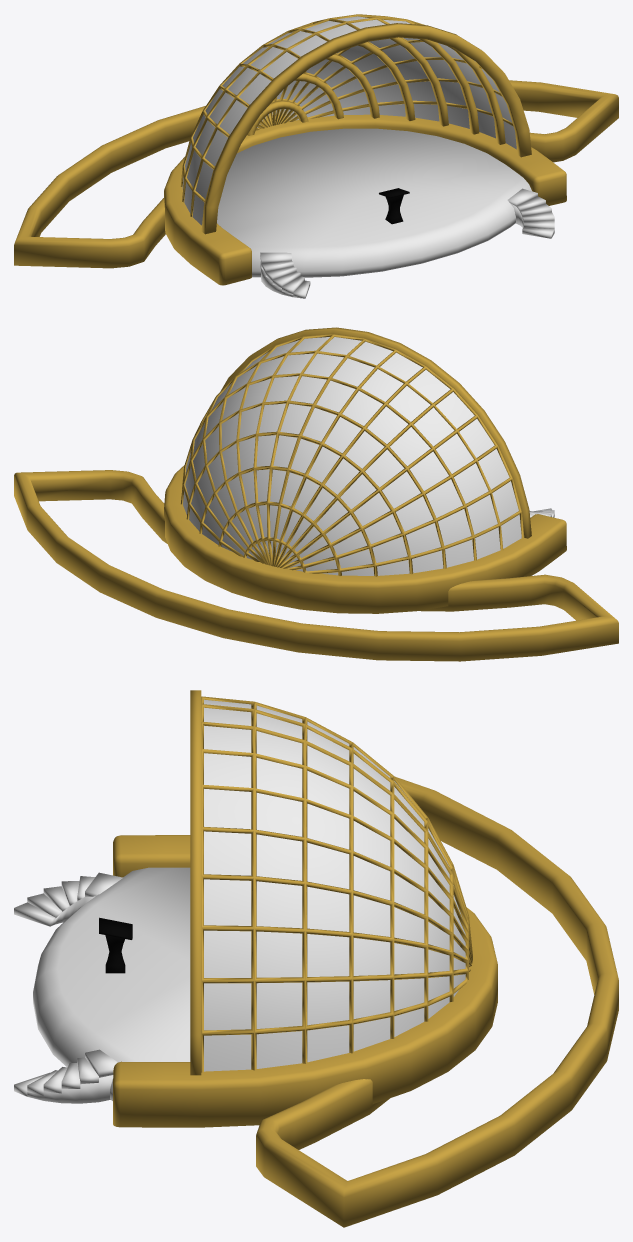
Rendered from amphitheater.glb.
3 views of the same model, one above another, from view 1: azimuth 30°, elevation 25°; view 2: azimuth 150°, elevation 25°; view 3: azimuth 270°, elevation 25° (orthographic). The views are drawn at different scales.
Visible parts, largest first — view 1: AmphiTheater; view 2: AmphiTheater; view 3: AmphiTheater.
Part boxes in pixels (x1,y1,x2,y2): AmphiTheater: (14,14,618,298); AmphiTheater: (14,327,618,661); AmphiTheater: (14,690,618,1227).
Size of what is drawn, in the model's own units: 27.93 by 8.81 by 16.41.
